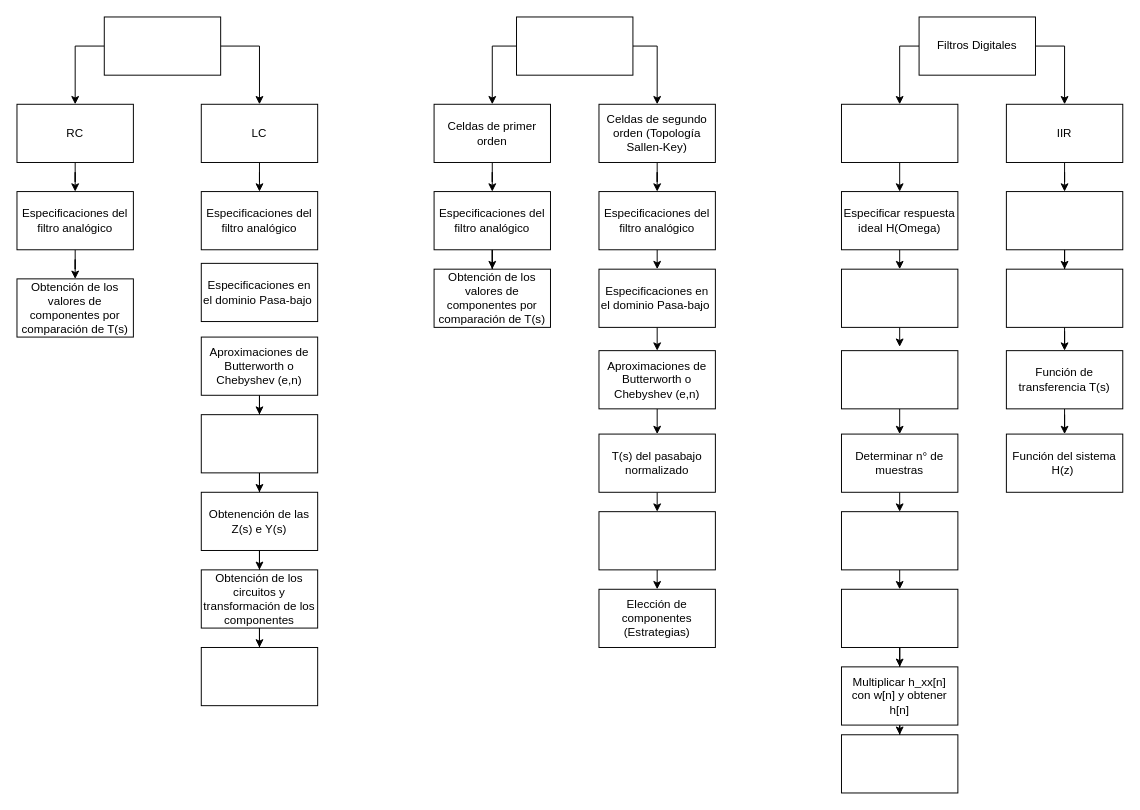
This 1140x810 diagram has some shape labels left out. The centre of each missing label's shape, as x and y in pixels:
"Adoptar una función de ventana" goes at pixel 899 297.
"Calcular coeficientes de respuesta al impulso ideal h_xx[n]" goes at pixel 899 540.
"Calcular los coecientes de la ventana adoptada w_k[n]" goes at pixel 899 617.
"Desnormalizar impedancias" goes at pixel 259 676.
"Especificación del filtro analógico" goes at pixel 1064 297.
"Especificación del filtro digital" goes at pixel 1064 220.
"Estimar longitud de filtro N" goes at pixel 899 379.
"Filtros Activos" goes at pixel 574 45.
"Filtros Pasivos" goes at pixel 162 45.
"FIR" goes at pixel 899 132.
"Obtención de Rho1(S)" goes at pixel 259 443.
"Obtener H(Omega), verificar especificaciones y retardar n_0[n] a h[n]" goes at pixel 899 763.
"Transformación de la T(s) PB a Pasa X" goes at pixel 656 540.
